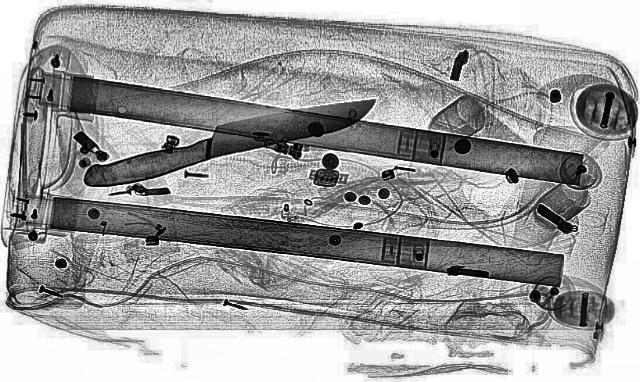Knife: (64, 88, 394, 192)
